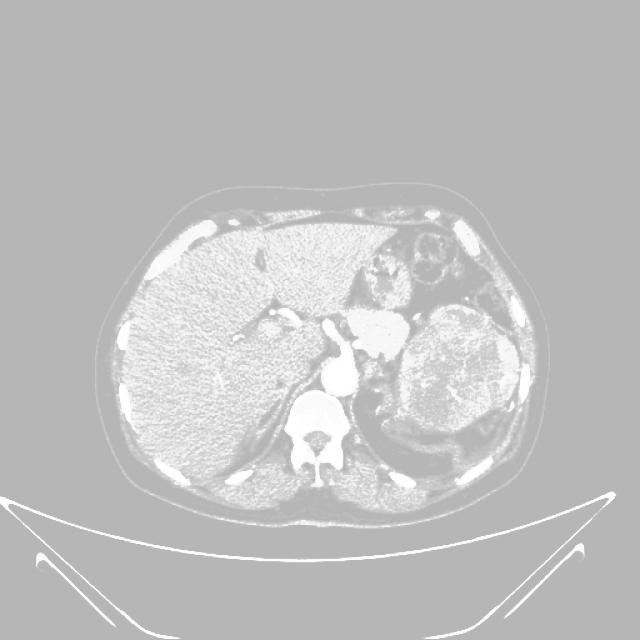TUMOR: (382, 300, 558, 446)
